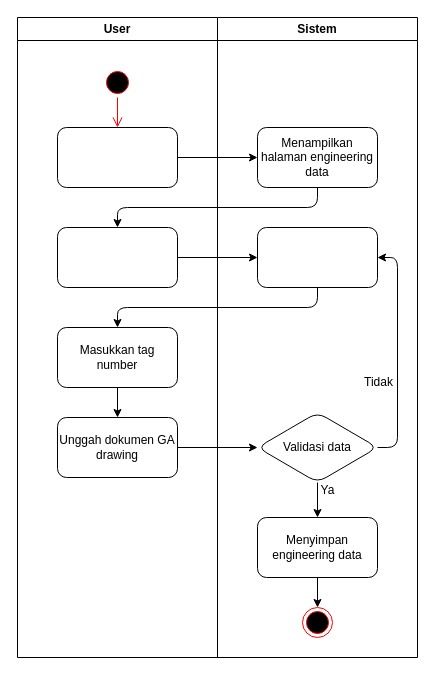
Some shapes in this 435 by 675 pixel diagram are drawn without their labels. The centre of each missing label's shape, as x and y in pixels:
Membuka halaman engineering data: the point at 117,157
Menampilkan halaman tambah data engineering data: the point at 317,257
Pilih tombol tambah pada halaman engineering data: the point at 117,257
